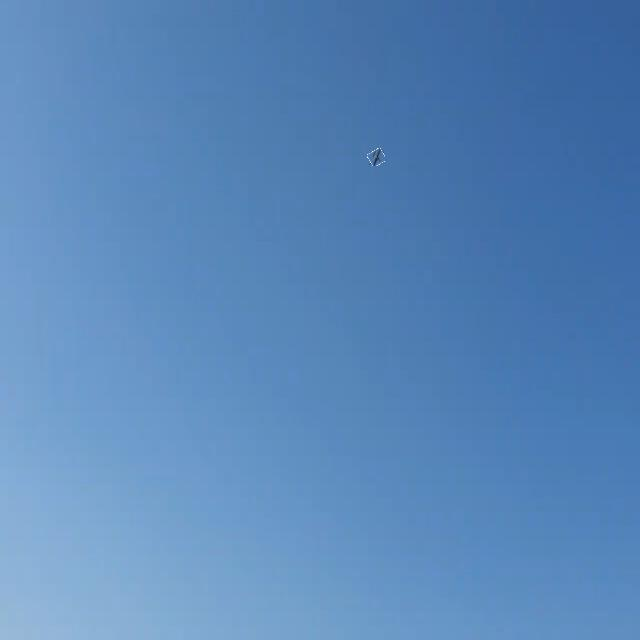UAV: (350, 140, 387, 178)
